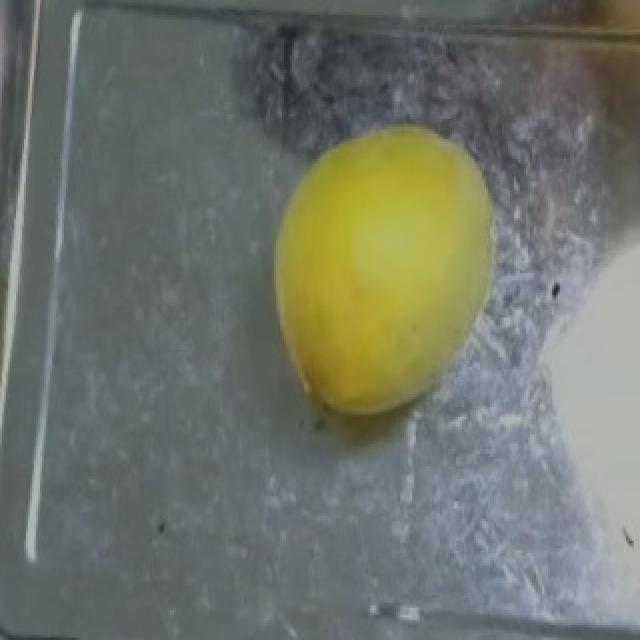fruit: (254, 102, 528, 439)
